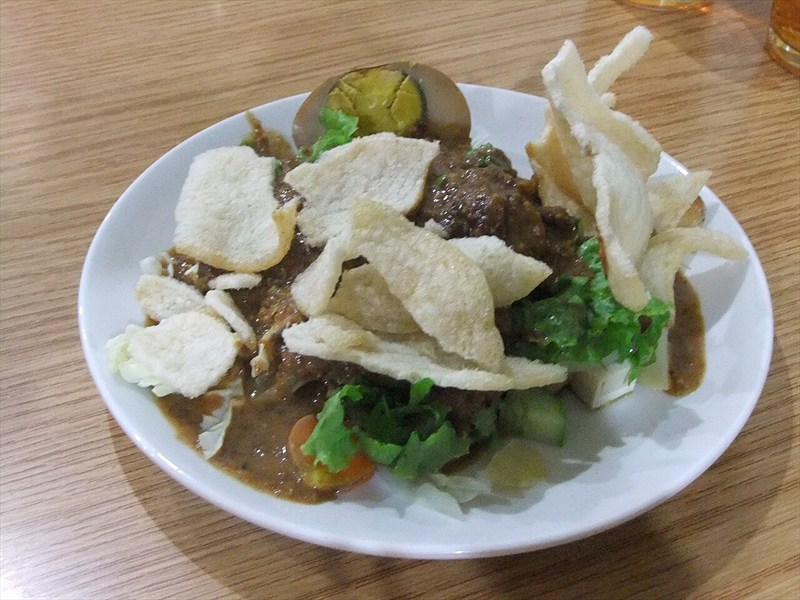Gado-Gado: (132, 109, 723, 566)
